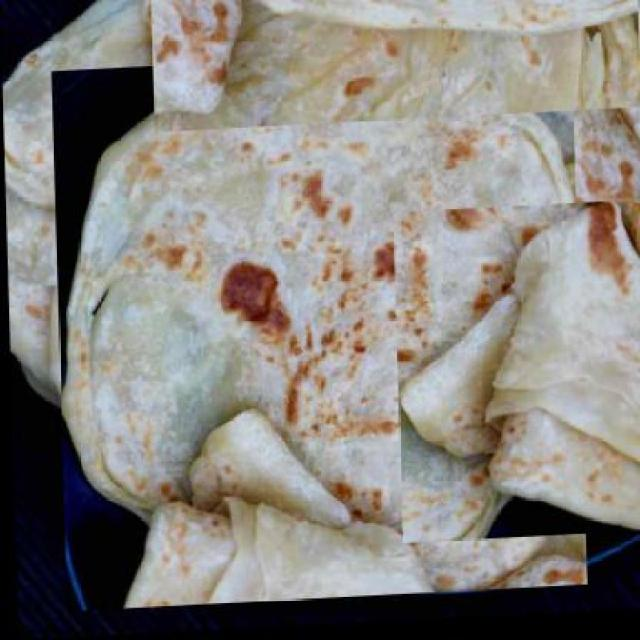chapati: (45, 55, 589, 610), (391, 206, 638, 549), (2, 52, 235, 352), (150, 0, 638, 137), (550, 0, 638, 282)
